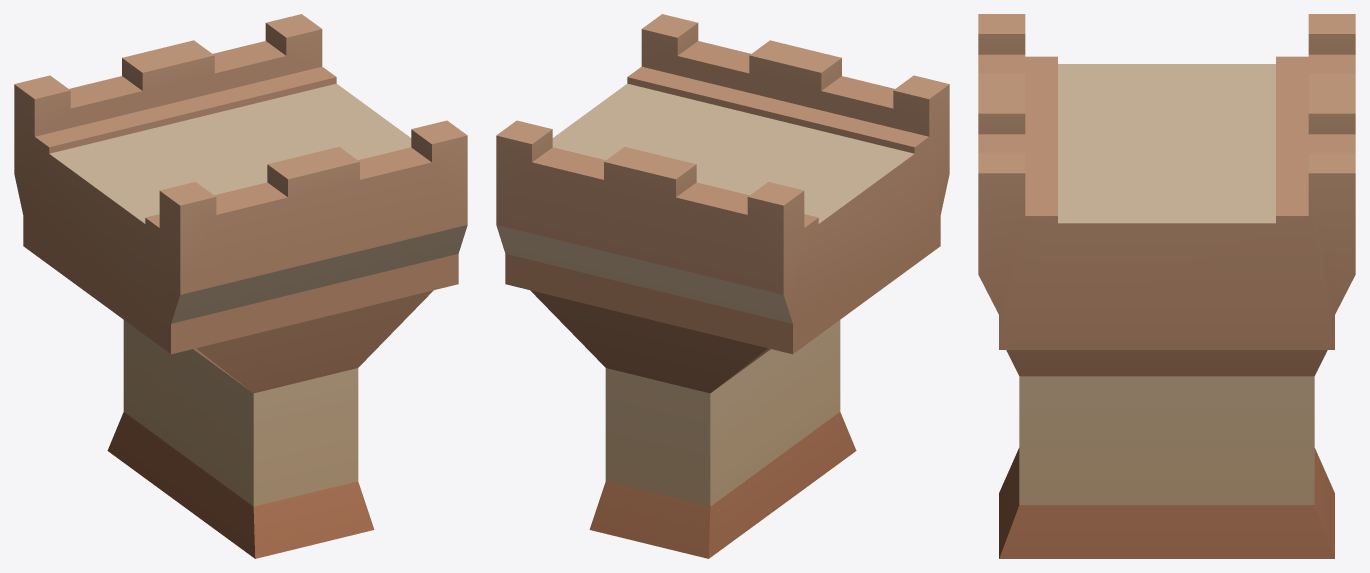
File: bridge-straight-pillar.glb
3 renders of one model, left to right at view 1: azimuth 30°, elevation 25°; view 2: azimuth 150°, elevation 25°; view 3: azimuth 270°, elevation 25°, orthographic. The views are drawn at different scales.
Visible parts, largest first — view 1: bridge-straight-pillar; view 2: bridge-straight-pillar; view 3: bridge-straight-pillar.
Part boxes in pixels (x1,y1,x2,y2): bridge-straight-pillar: (14, 14, 467, 558); bridge-straight-pillar: (496, 14, 949, 558); bridge-straight-pillar: (978, 14, 1355, 558).
Size of the model in its own units: 0.93 by 1.18 by 0.93.
